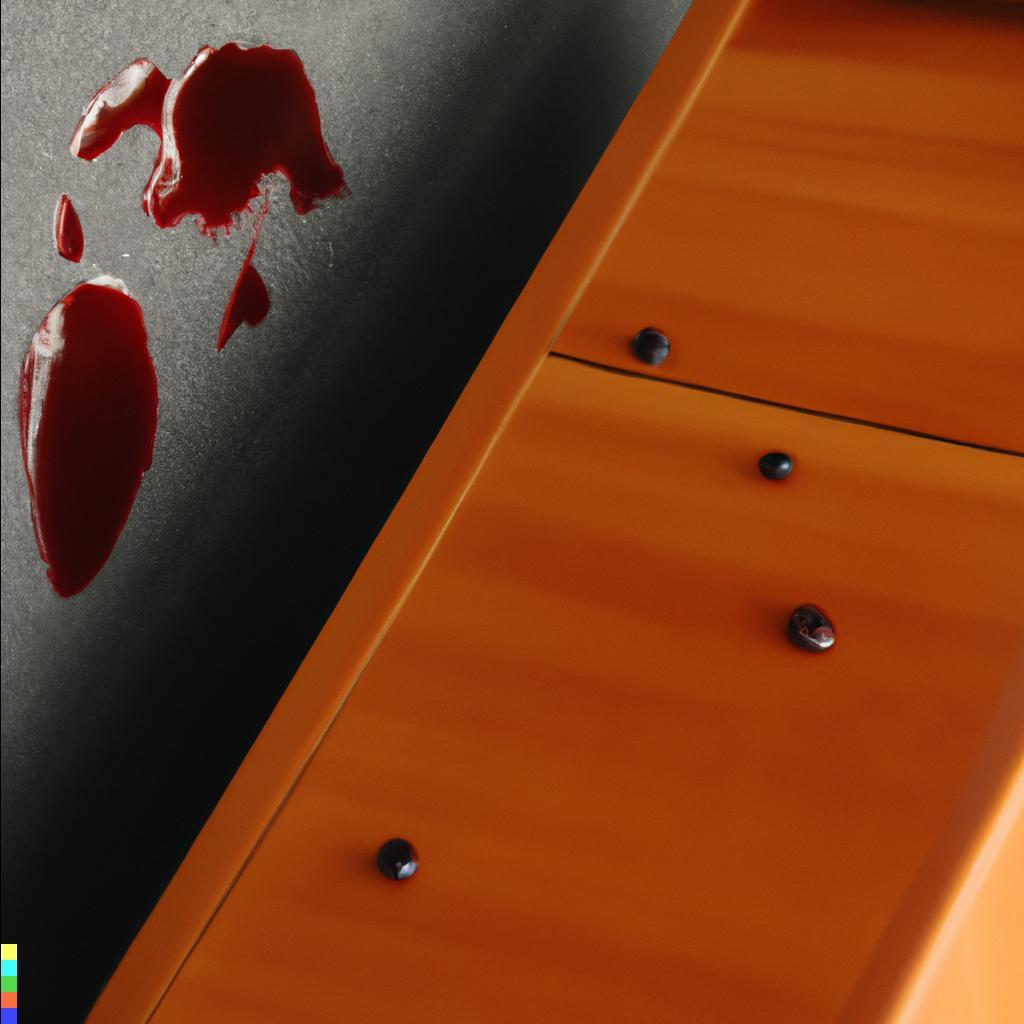Fire: (69, 41, 352, 242), (17, 283, 158, 598), (216, 237, 270, 352), (55, 193, 84, 263)
